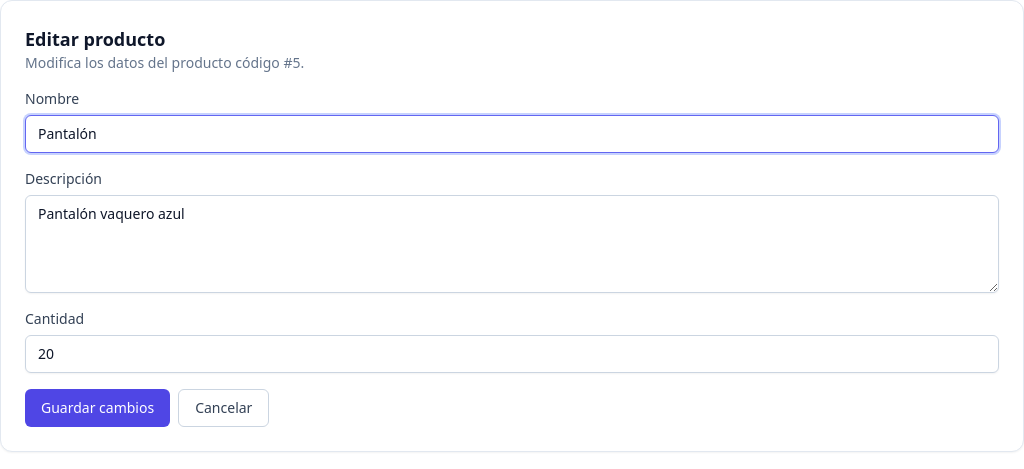
ProductForm › edit mode › updates the product on save and resets to create mode
Replace the text in the field labelled "Nombre" with "Pantalón actualizado" at point(512, 134), box [25,115,999,153]
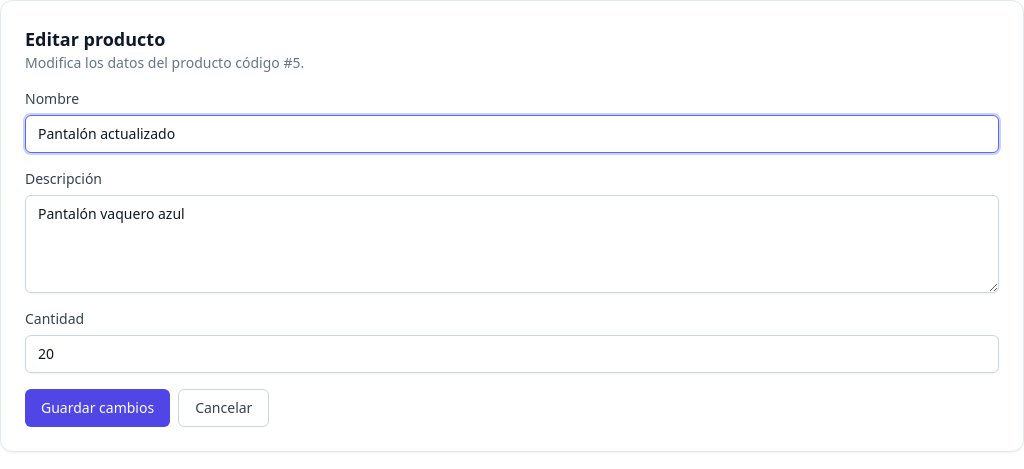
Click the button "Guardar cambios".
click(98, 408)  # box [25,389,170,427]
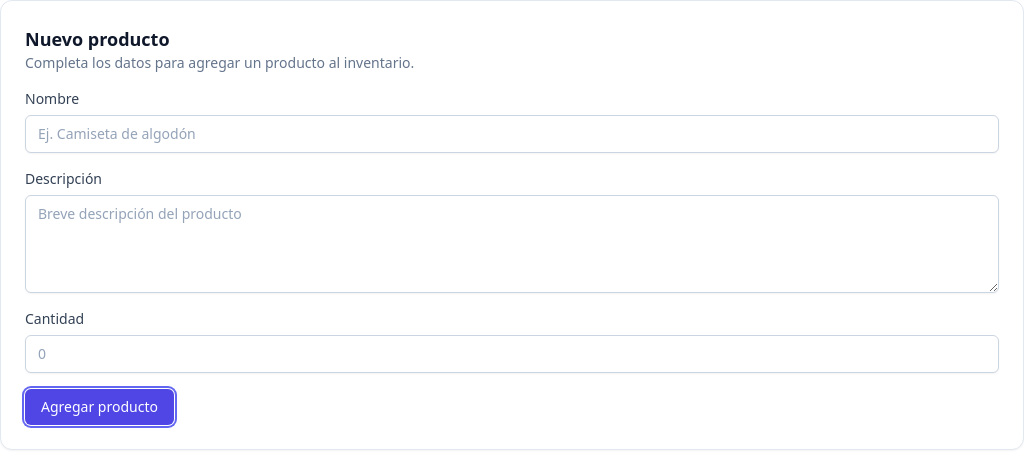
Expected: the heading "Nuevo producto" is shown, [25,27,170,51]
